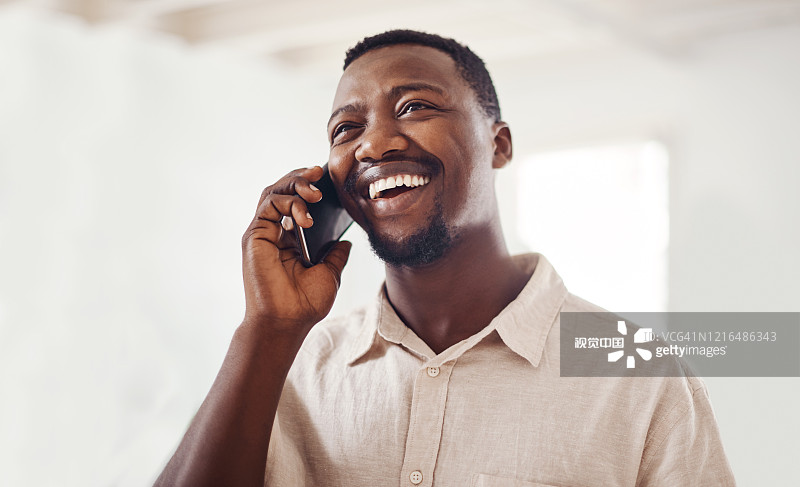calling: (226, 145, 370, 368)
